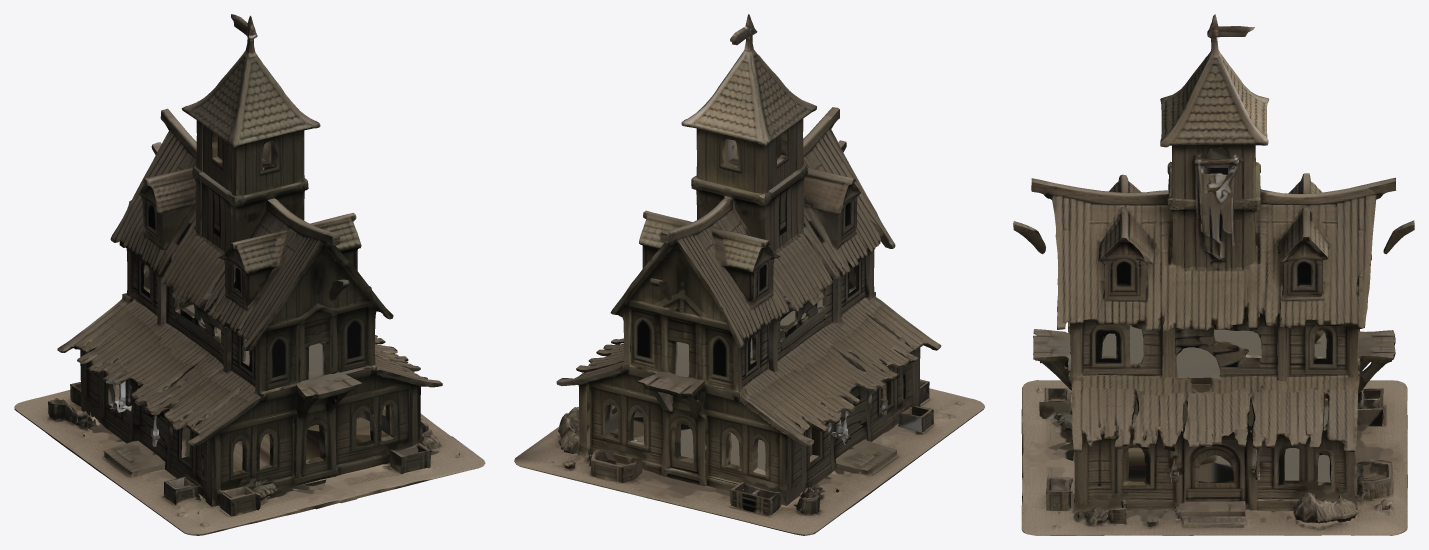
3 views of the same model, side by side, from view 1: azimuth 30°, elevation 25°; view 2: azimuth 150°, elevation 25°; view 3: azimuth 270°, elevation 25° (orthographic). The views are drawn at different scales.
Visible parts, largest first — view 1: WoodenTavern; view 2: WoodenTavern; view 3: WoodenTavern.
Part boxes in pixels (x1=…): WoodenTavern: x1=14, y1=14, x2=485, y2=535; WoodenTavern: x1=514, y1=14, x2=984, y2=535; WoodenTavern: x1=1013, y1=14, x2=1414, y2=535.
Bounding box in the file's own units: 10.39 × 14 × 11.34.
Materials: 1 (1 with a texture image).
